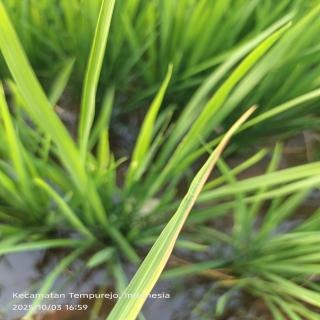Hawar-Daun: (155, 174, 209, 276)
